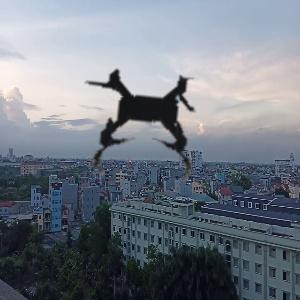drone: (36, 9, 259, 232)
